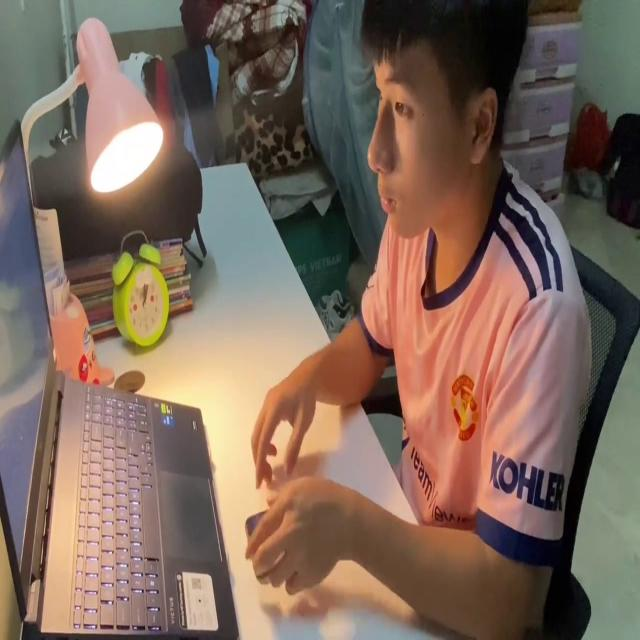laptop: (0, 119, 239, 640)
student: (248, 6, 594, 640)
